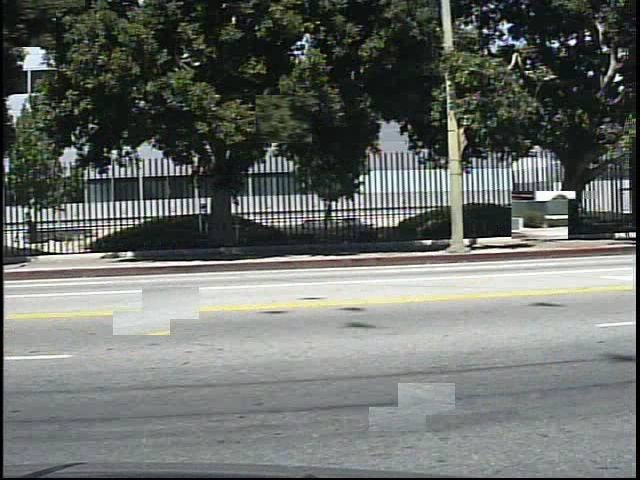person: (422, 195, 452, 255), (397, 194, 424, 254)
